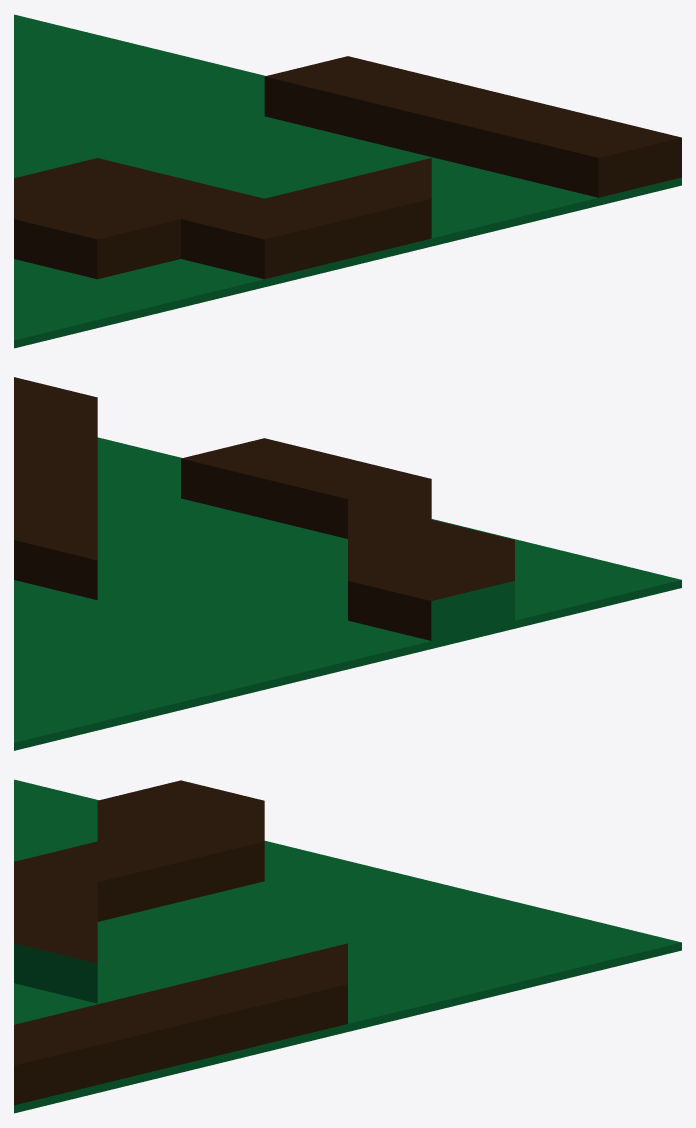
File: TreePort.fbx
3 renders of one model, top to bottom at view 1: azimuth 30°, elevation 25°; view 2: azimuth 150°, elevation 25°; view 3: azimuth 270°, elevation 25°, orthographic.
Visible parts, largest first — view 1: Cylinder; view 2: Cylinder; view 3: Cylinder.
Part boxes in pixels (x1,y1,x2,y2): Cylinder: (14, 14, 681, 348); Cylinder: (14, 377, 681, 750); Cylinder: (14, 779, 681, 1113).
Size of the model in its own units: 0.866 by 0.0594 by 0.75.
